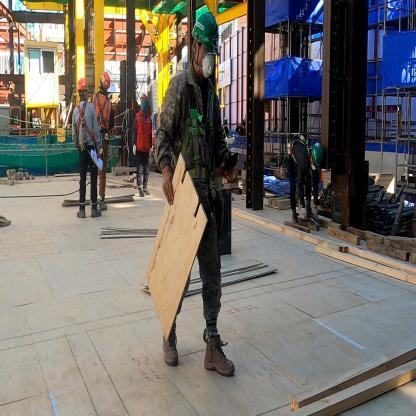Helmet: (187, 2, 223, 52)
safety-shoe: (200, 336, 238, 386), (158, 330, 184, 376)
